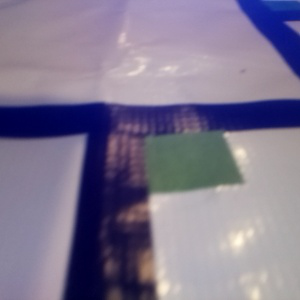bottom_right: (87, 105, 244, 192)
